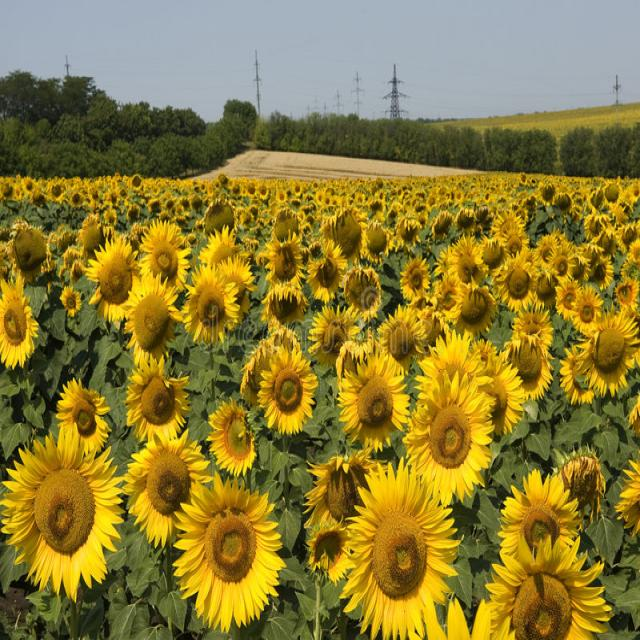sunflower: (328, 464, 461, 640), (162, 469, 290, 633), (4, 426, 123, 594), (406, 358, 508, 510), (482, 529, 608, 640), (119, 432, 211, 553), (334, 351, 407, 457), (580, 293, 638, 410), (117, 263, 178, 372), (254, 342, 319, 429), (182, 268, 244, 356), (85, 235, 142, 325), (124, 360, 184, 445), (206, 397, 260, 483), (55, 382, 115, 459), (0, 280, 42, 379), (498, 331, 553, 403), (260, 231, 309, 308), (132, 222, 180, 299), (305, 242, 350, 316), (453, 274, 499, 338), (496, 259, 545, 314), (392, 252, 435, 306), (553, 277, 583, 321)
